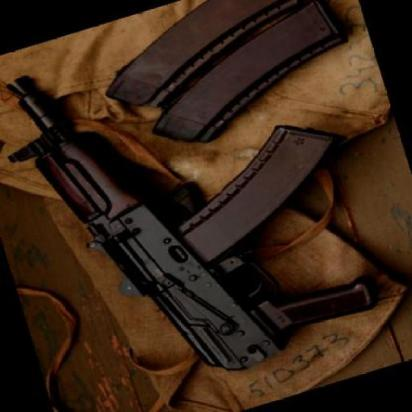Gun: (0, 0, 402, 412)
